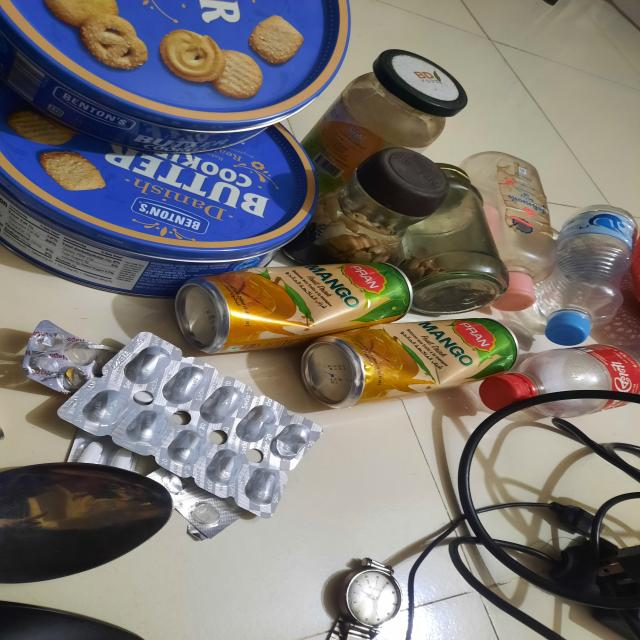Cable: (429, 402, 640, 640)
E-waste: (307, 542, 404, 640)
Medical Waste: (17, 317, 266, 552)
Plastics: (503, 133, 640, 433)
can: (21, 0, 330, 277), (209, 267, 516, 398)
